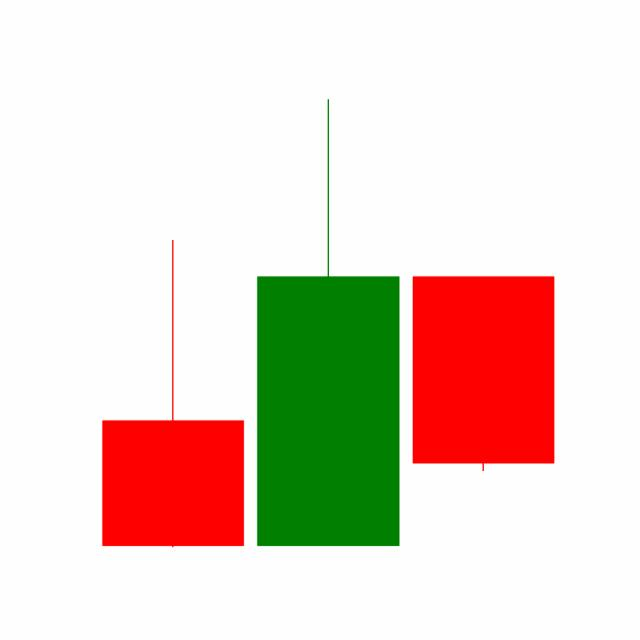Marubozu: (405, 273, 561, 473)
